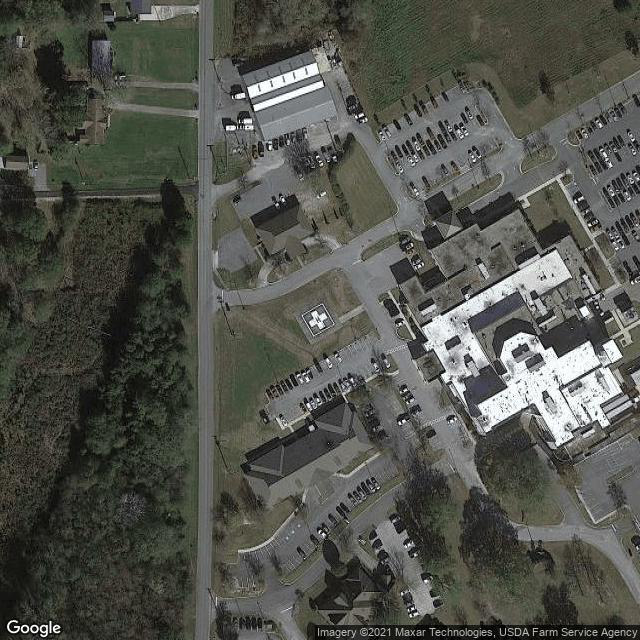Helipad: (298, 299, 337, 336)
